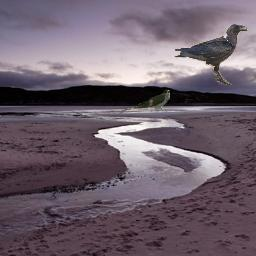Crow: (174, 24, 248, 85)
Cuckoo: (120, 89, 170, 112)
